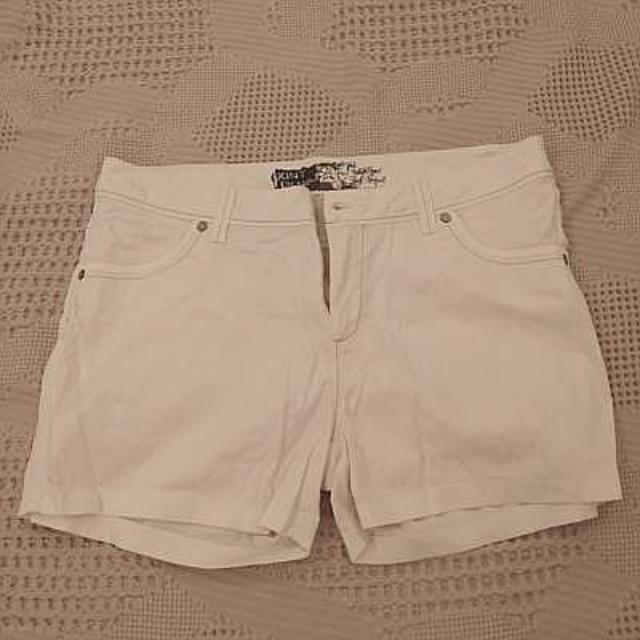SHORT: (19, 126, 632, 571)
